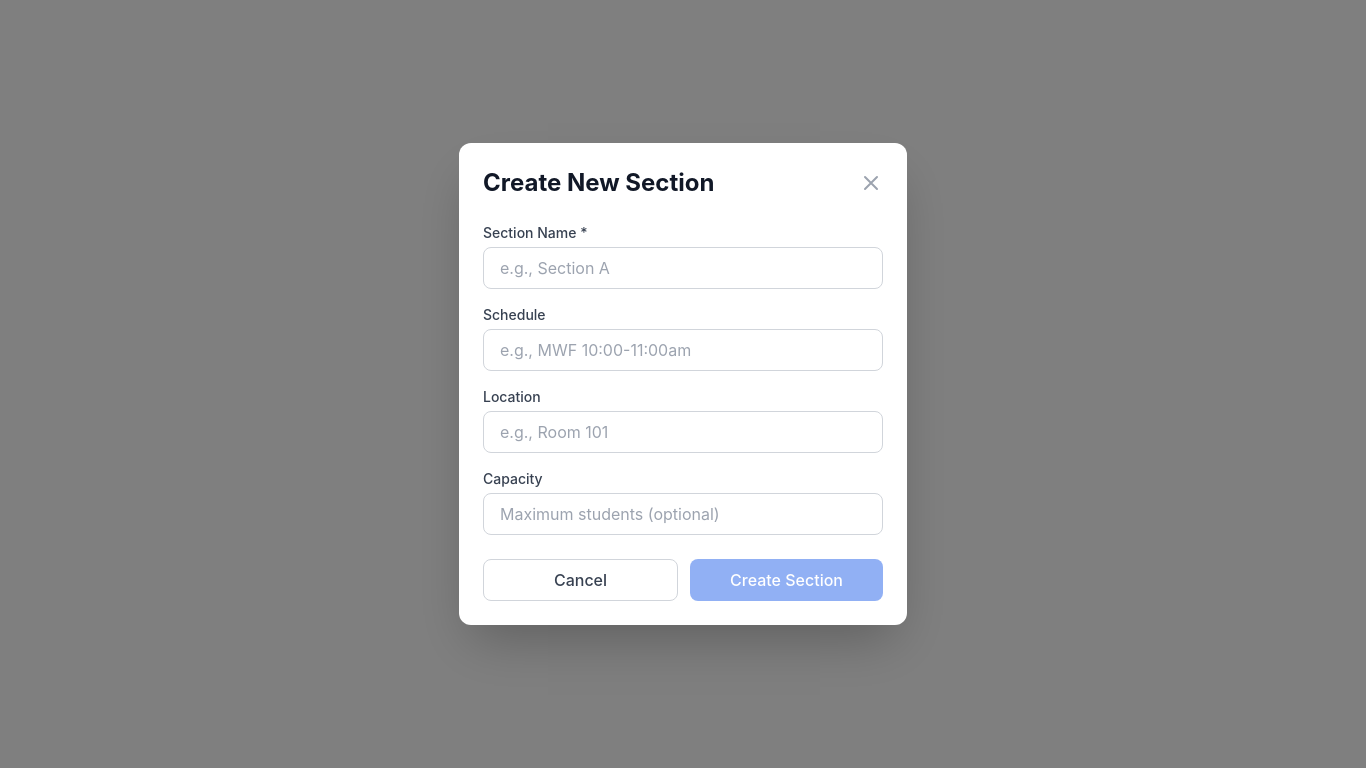
Test case: CreateSectionModal › shows error when API returns error
Type "Section A" into the field labelled "Section Name *" at (683, 268), box [483, 247, 883, 289]
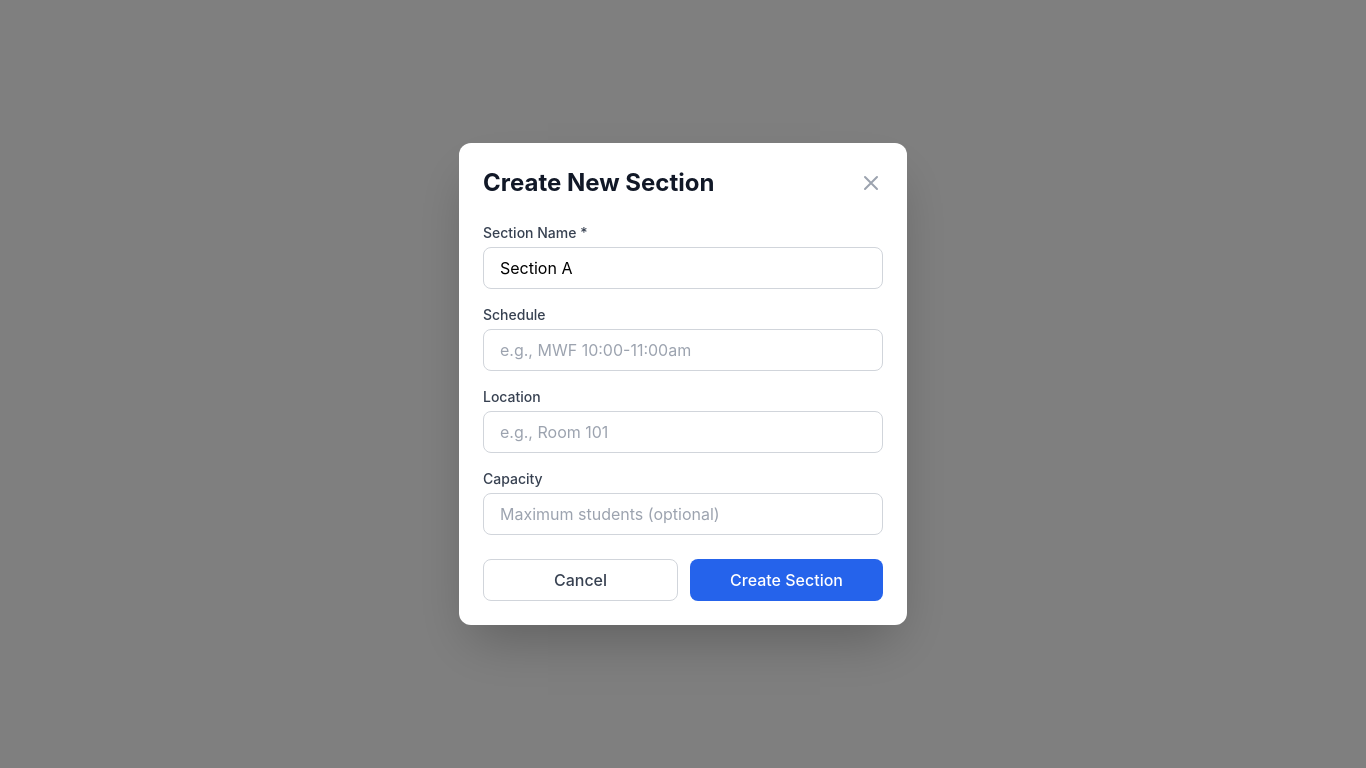
Click the button "Create Section" at (786, 580), box [690, 559, 883, 601]
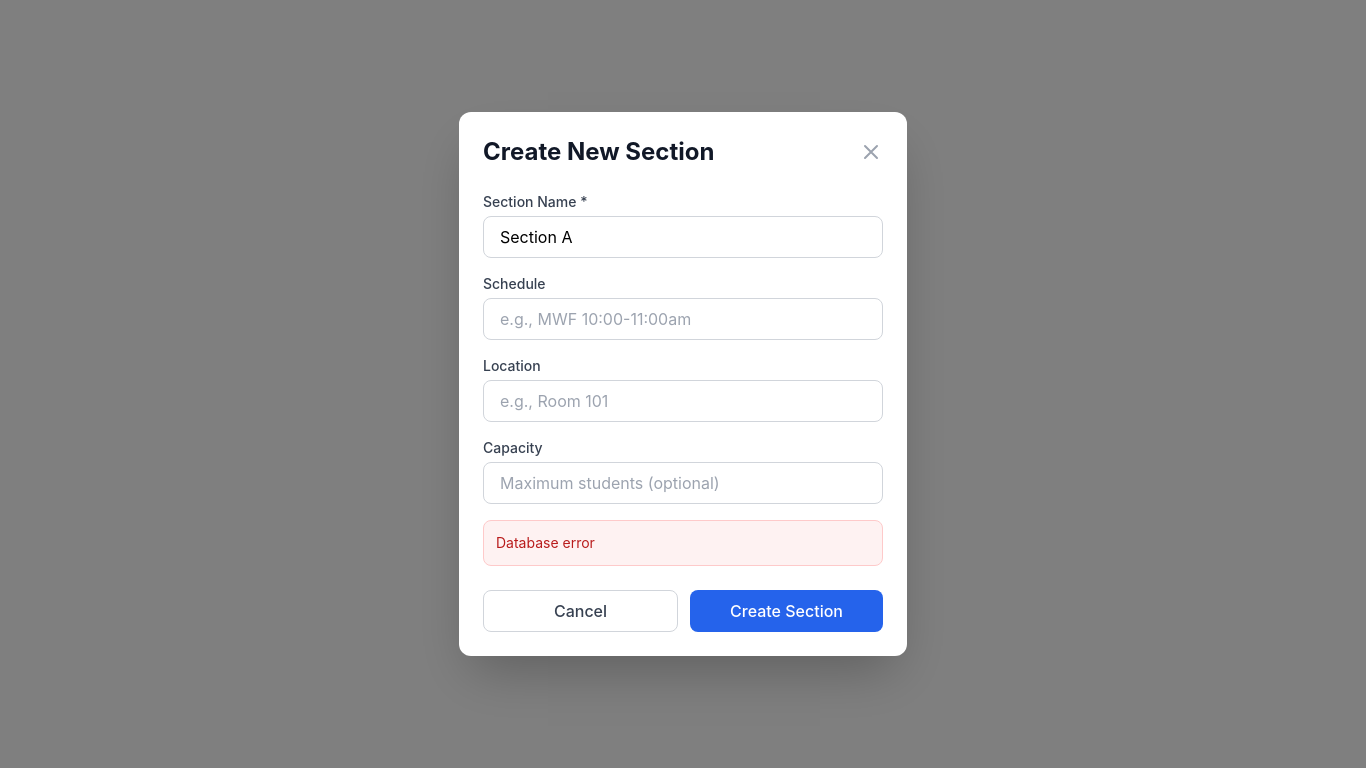
Check: the text "Database error" is shown, box [483, 520, 883, 566]
